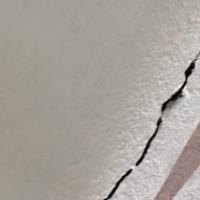crack: (61, 53, 199, 199)
